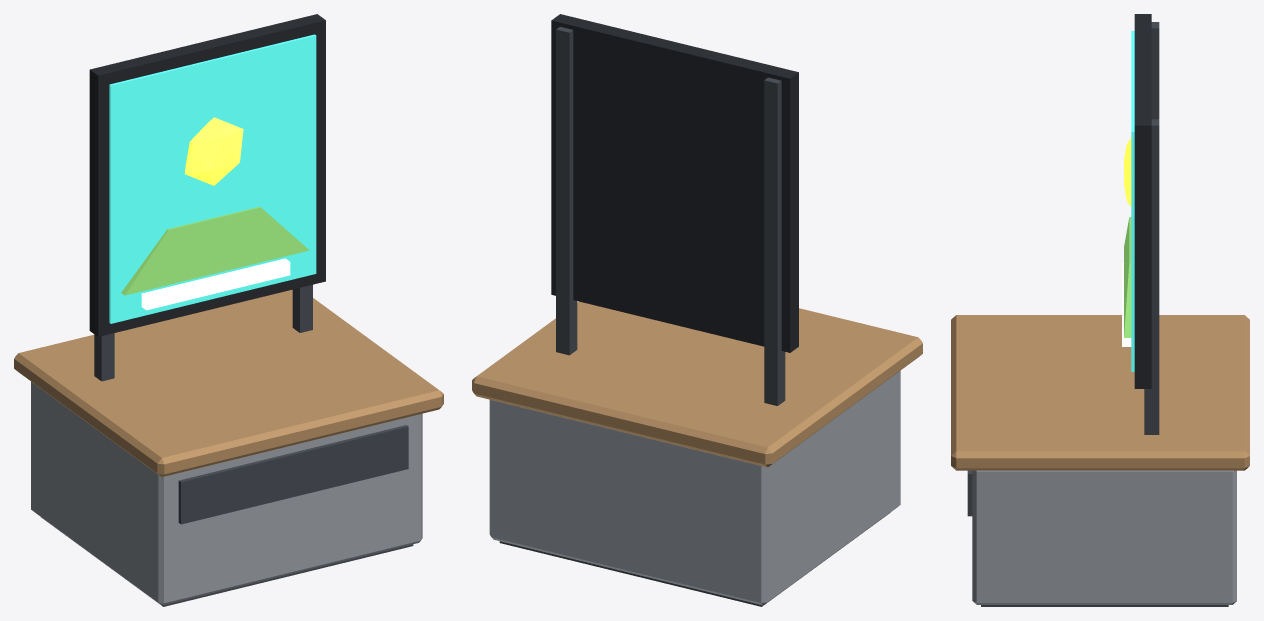
Rendered from poster_2.glb.
The picture shows the model from 3 angles, left to right: view 1: azimuth 30°, elevation 25°; view 2: azimuth 150°, elevation 25°; view 3: azimuth 270°, elevation 25°; orthographic projection. The views are drawn at different scales.
Parts seen in each view (by area): view 1: poster_2_mesh_Desk, poster_2_mesh; view 2: poster_2_mesh_Desk, poster_2_mesh; view 3: poster_2_mesh_Desk, poster_2_mesh.
Boxes of the visible parts, x1,y1,x2,y2 form: poster_2_mesh_Desk: [14, 289, 443, 606]; poster_2_mesh: [89, 14, 325, 381]; poster_2_mesh_Desk: [472, 301, 922, 606]; poster_2_mesh: [551, 14, 798, 405]; poster_2_mesh_Desk: [951, 315, 1249, 606]; poster_2_mesh: [1122, 14, 1159, 434].
Size of the model in its own units: 0.78 by 1.23 by 0.7.
